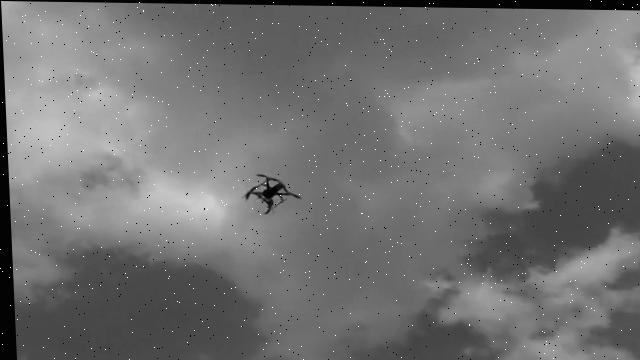drone: (240, 169, 301, 213)
